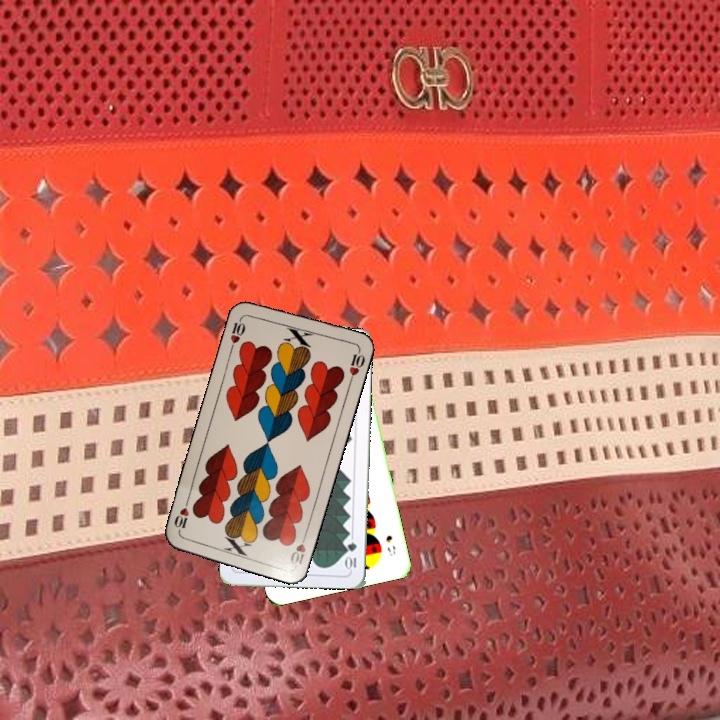G10: (343, 538, 359, 572)
H10: (285, 529, 310, 568), (226, 313, 248, 352)
S8: (382, 531, 398, 559)
